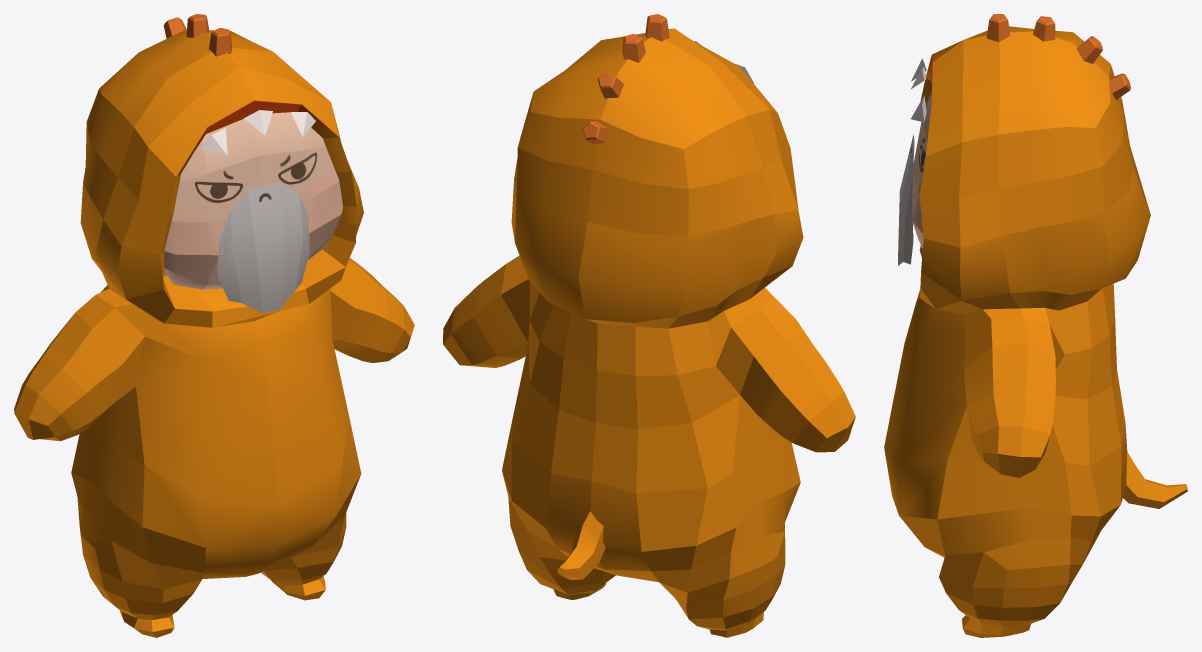
The model's file is liz.fbx.
The picture shows the model from 3 angles, left to right: view 1: azimuth 30°, elevation 25°; view 2: azimuth 150°, elevation 25°; view 3: azimuth 270°, elevation 25°; orthographic projection. The views are drawn at different scales.
Parts seen in each view (by area): view 1: Liz, headLP2; view 2: Liz; view 3: Liz, headLP2.
Boxes of the visible parts, x1,y1,x2,y2 form: Liz: (14, 14, 414, 637); headLP2: (164, 112, 343, 289); Liz: (443, 14, 855, 637); Liz: (884, 14, 1187, 637); headLP2: (912, 90, 931, 248).
Size of the model in its own units: 10.21 by 14.28 by 6.8.
